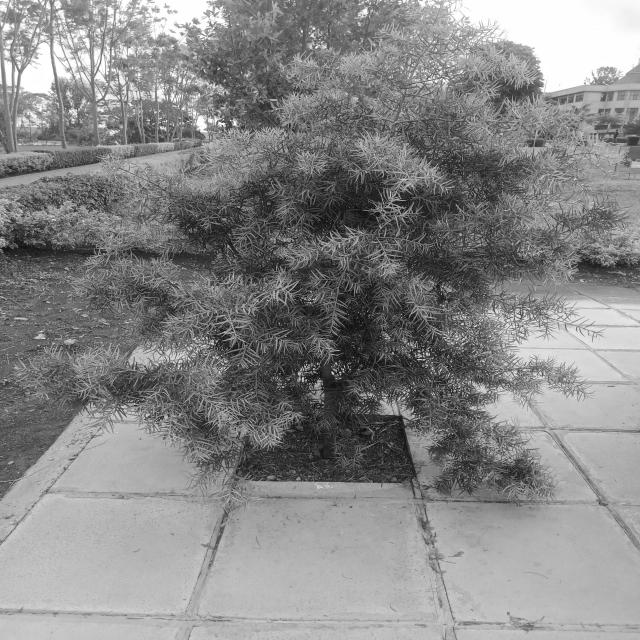Podocarpus falcatus: (18, 11, 634, 508)
